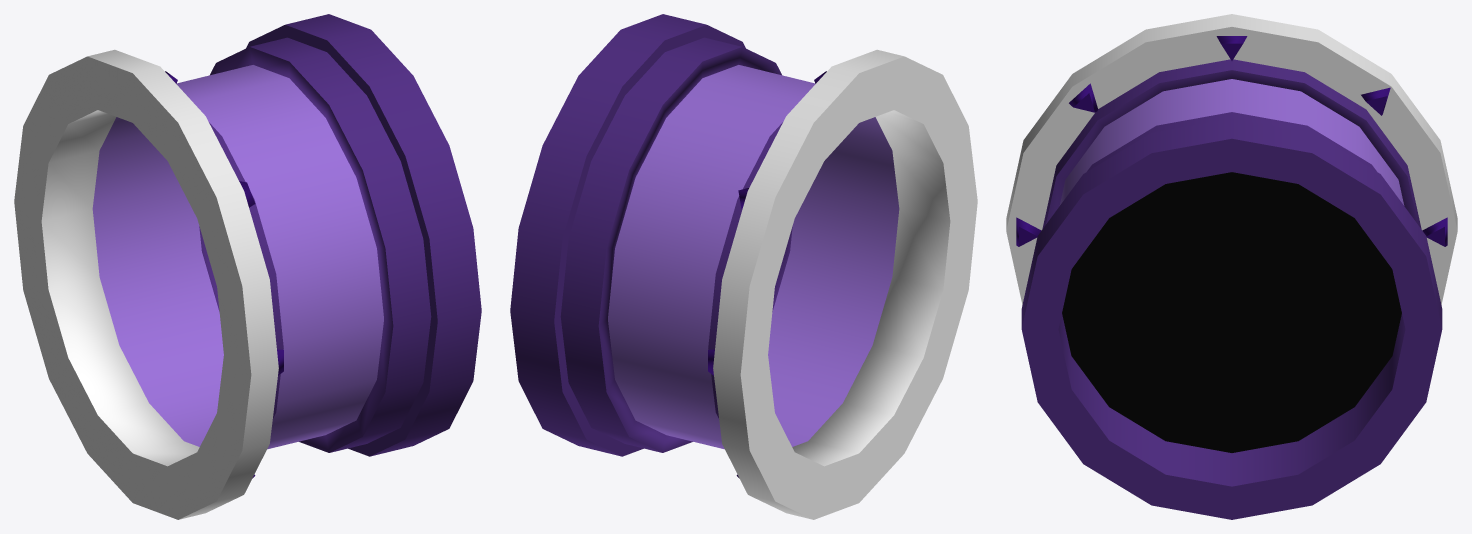
File: SM_pipe_2.fbx
The picture shows the model from 3 angles, left to right: view 1: azimuth 30°, elevation 25°; view 2: azimuth 150°, elevation 25°; view 3: azimuth 270°, elevation 25°; orthographic projection. The views are drawn at different scales.
Visible parts, largest first — view 1: SM_pipe_2; view 2: SM_pipe_2; view 3: SM_pipe_2.
Part boxes in pixels (left/top/right/bottom): SM_pipe_2: left=14, top=14, right=481, bottom=519; SM_pipe_2: left=510, top=14, right=977, bottom=519; SM_pipe_2: left=1006, top=14, right=1457, bottom=519.
Size of the model in its own units: 1.61 by 2.78 by 2.78.
